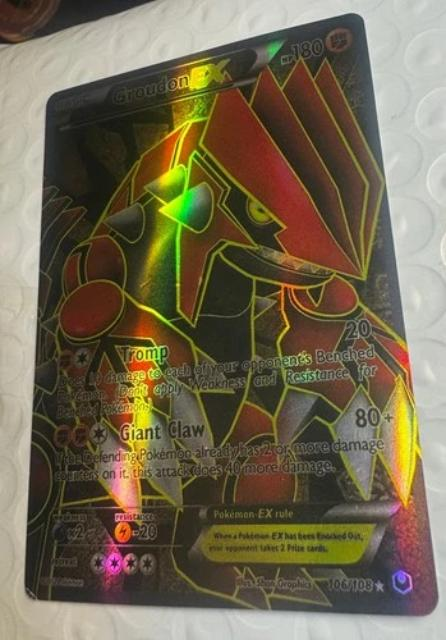Card: (18, 8, 444, 621)
Name: (107, 52, 237, 113)
